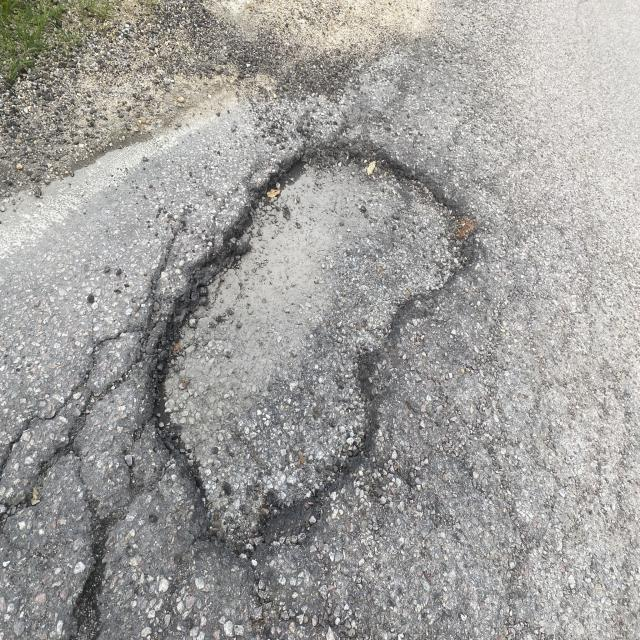Pothole: (117, 99, 490, 585)
